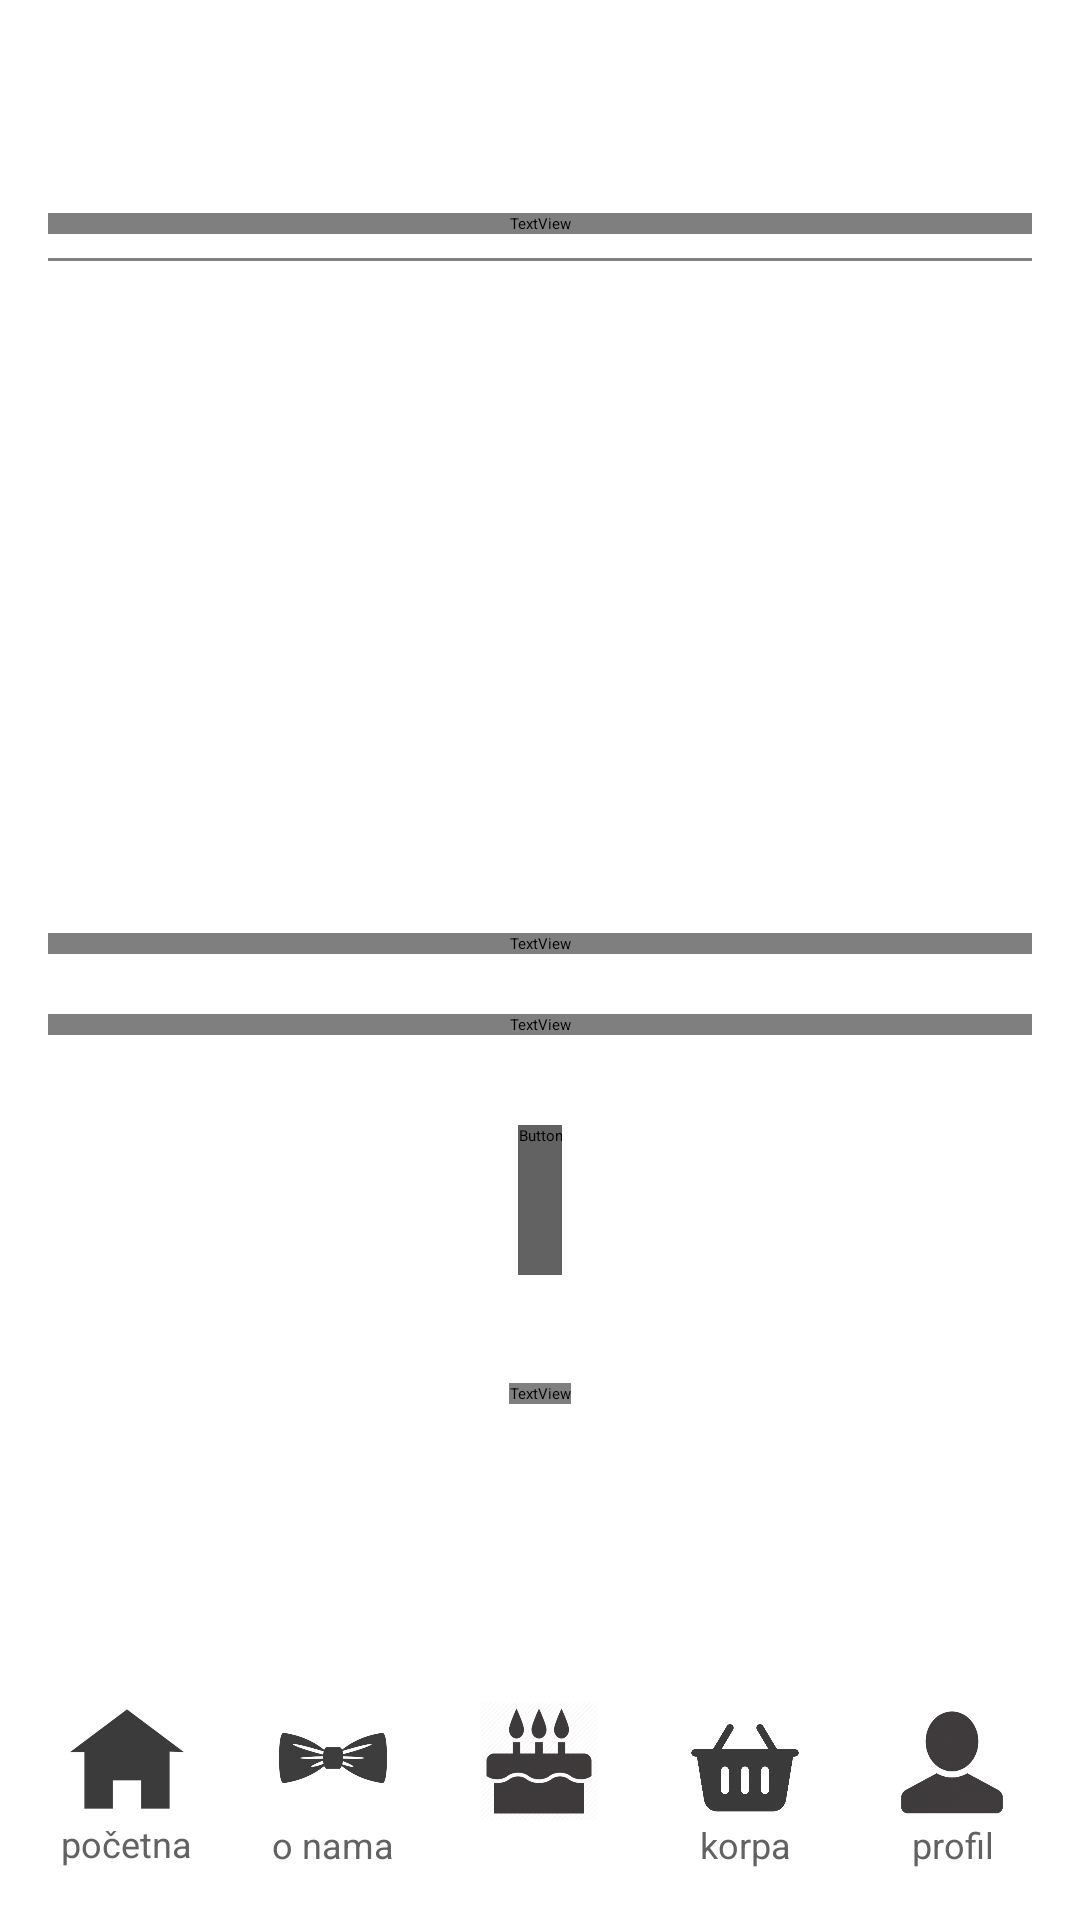

Icons on this 1080×1920 Android screen, each with the point to tap as (x,y):
bow: (333,1758)
cake: (539,1761)
